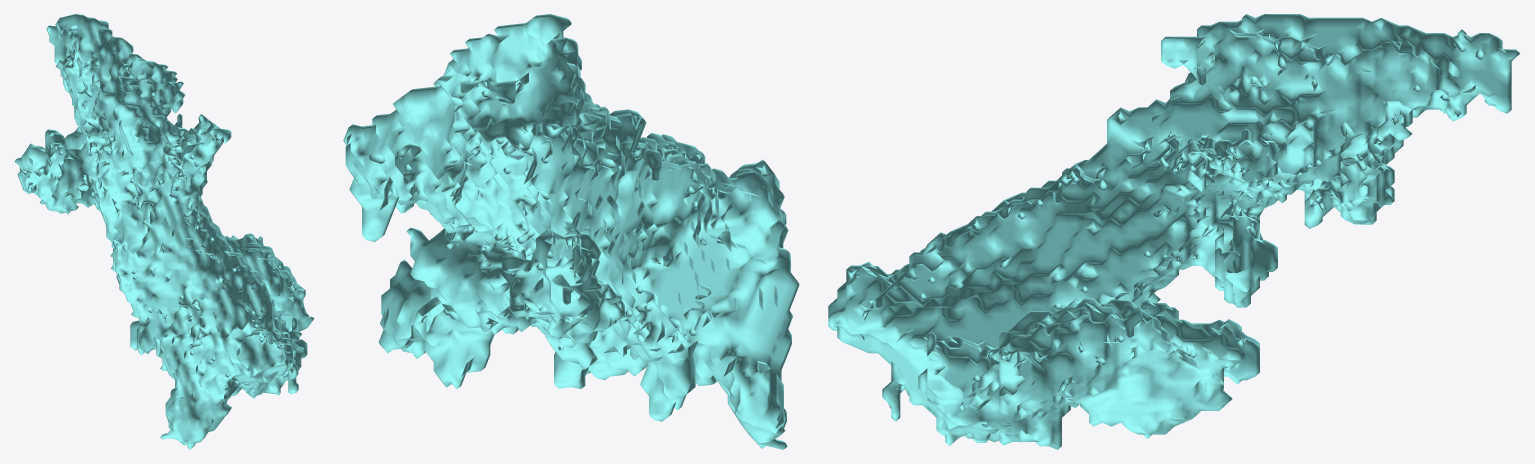
The model's file is osteocyte_231.glb.
3 renders of one model, left to right at view 1: azimuth 30°, elevation 25°; view 2: azimuth 150°, elevation 25°; view 3: azimuth 270°, elevation 25°, orthographic. The views are drawn at different scales.
Visible parts, largest first — view 1: osteocyte_231; view 2: osteocyte_231; view 3: osteocyte_231.
Part boxes in pixels (bbox=[...]): osteocyte_231: bbox=[14, 14, 314, 449]; osteocyte_231: bbox=[343, 14, 799, 449]; osteocyte_231: bbox=[828, 14, 1520, 449].
Size of the model in its own units: 18.3 by 25.52 by 37.07.
